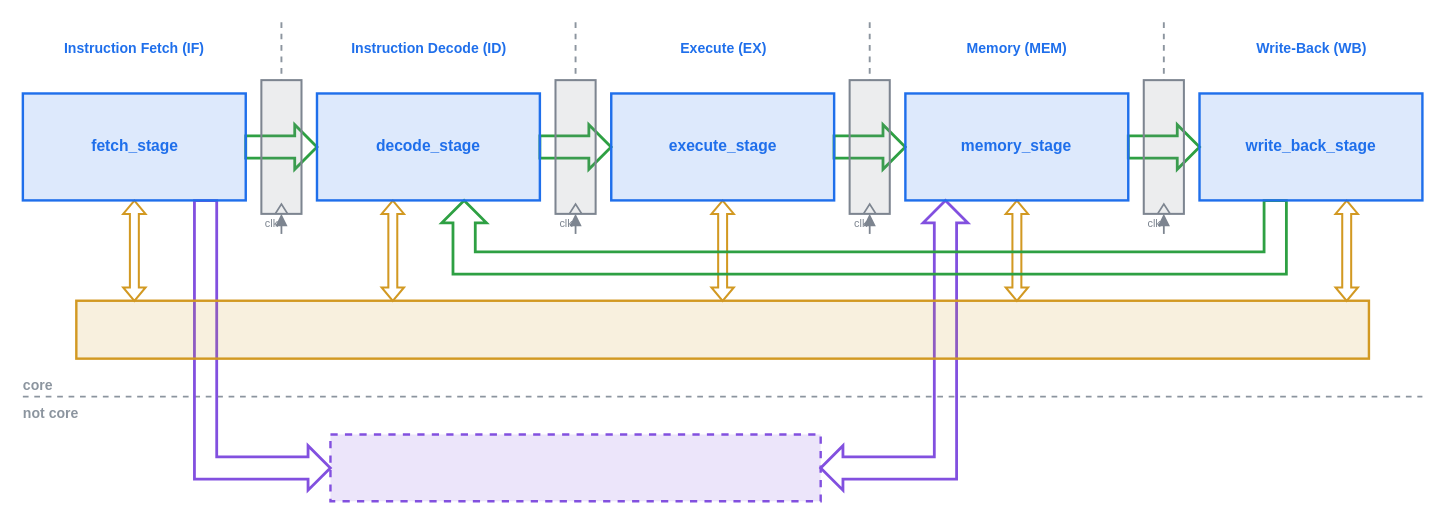
Image size: 1447x525. Some labels were removed from this diagram. The shapes that lost their labels are listed below. From the top down, each one's centre as x and y in pixels, then its label:
At (x=722, y=329): "hazard_unit".
At (x=575, y=467): "memory".
